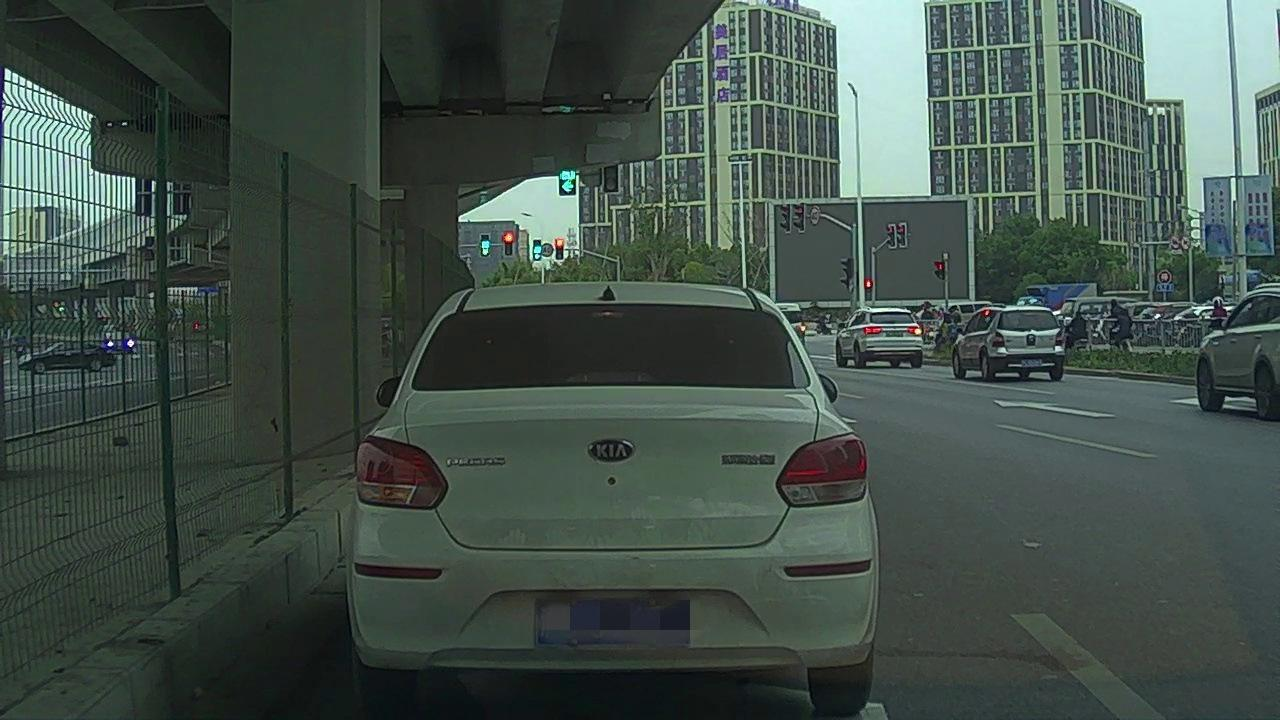traffic_light: (559, 172, 575, 194), (533, 239, 542, 260), (480, 235, 488, 256), (505, 233, 512, 254), (556, 239, 563, 259)
